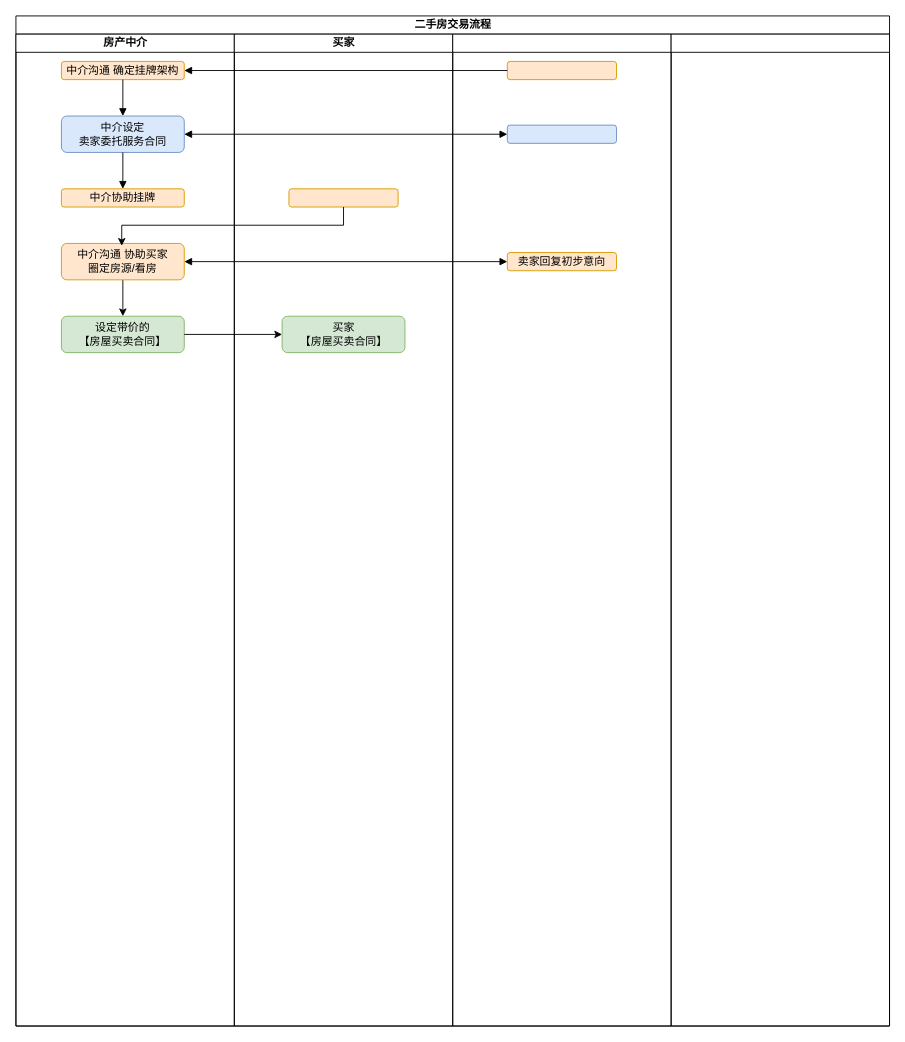
Some shapes in this 905 by 1042 pixel diagram are drawn without their labels. The box of each missing label's shape, as (x1, y1, x2, y2) in pixels:
买家购房意向与咨询: (288, 188, 398, 207)
卖家: (452, 33, 671, 1026)
卖家卖房意向与咨询: (506, 61, 617, 80)
卖家签署合同: (506, 124, 617, 143)
贷款银行: (670, 33, 890, 1026)
